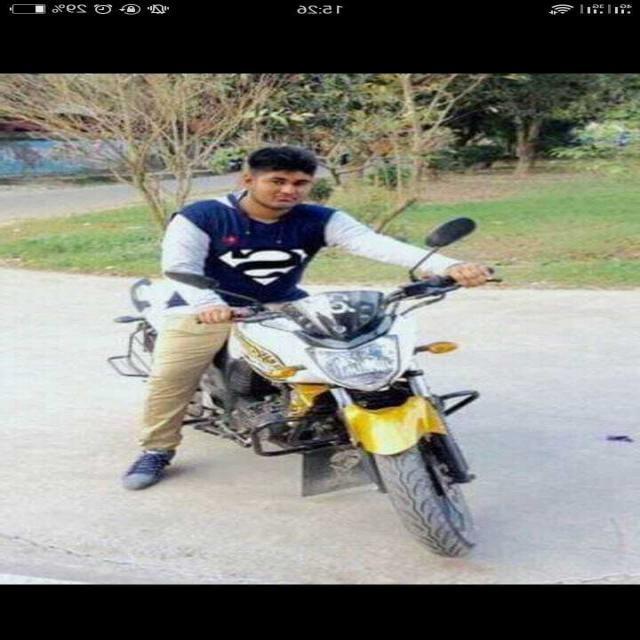Not Wearing Helmet: (128, 87, 374, 245)
